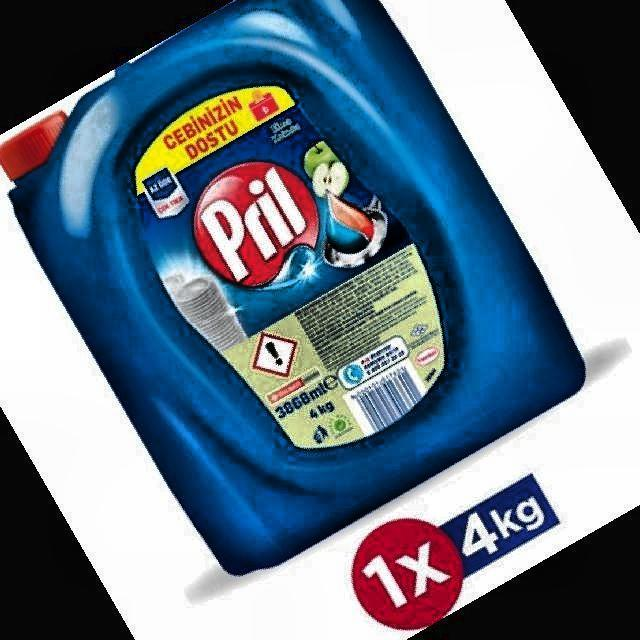plastic: (0, 0, 585, 574)
